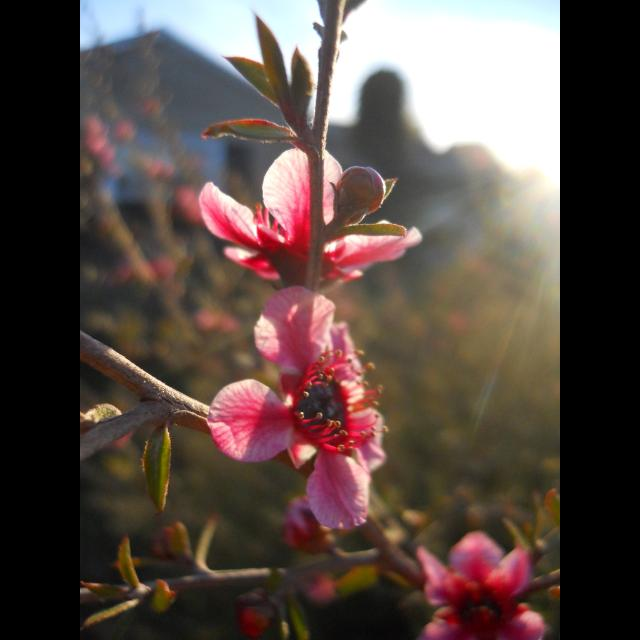Flower: (212, 305, 392, 527), (196, 142, 420, 294), (414, 532, 544, 640)
